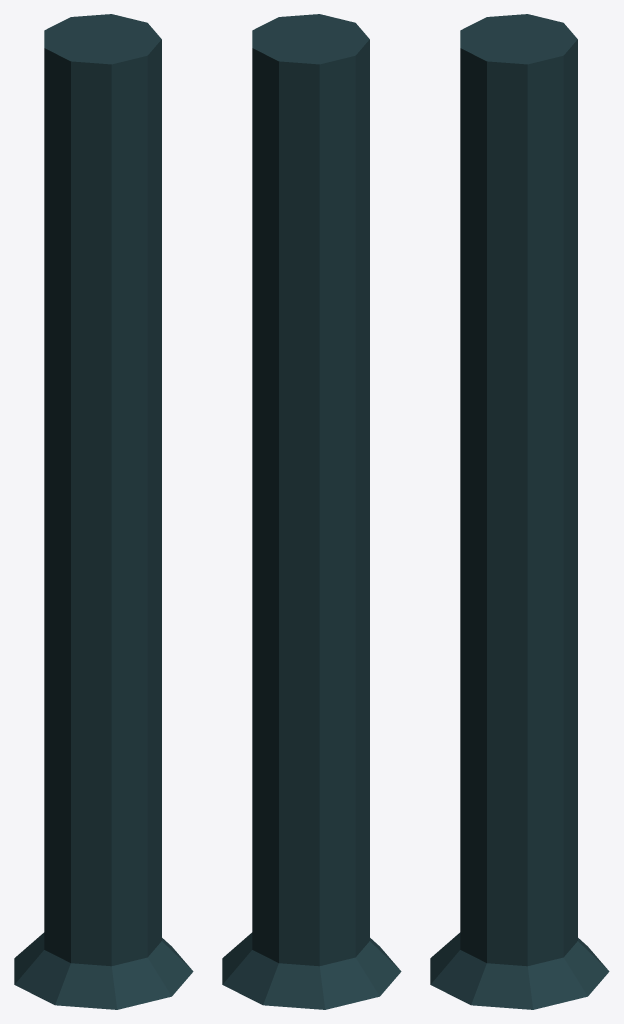
Rendered from PipeB_Hangar.fbx.
3 renders of one model, left to right at view 1: azimuth 30°, elevation 25°; view 2: azimuth 150°, elevation 25°; view 3: azimuth 270°, elevation 25°, orthographic.
Visible parts, largest first — view 1: Pipe B; view 2: Pipe B; view 3: Pipe B.
Part boxes in pixels (bbox=[...]): Pipe B: bbox=[14, 14, 193, 1009]; Pipe B: bbox=[222, 14, 401, 1009]; Pipe B: bbox=[430, 14, 609, 1009].
Size of the model in its own units: 166 by 939 by 163.
